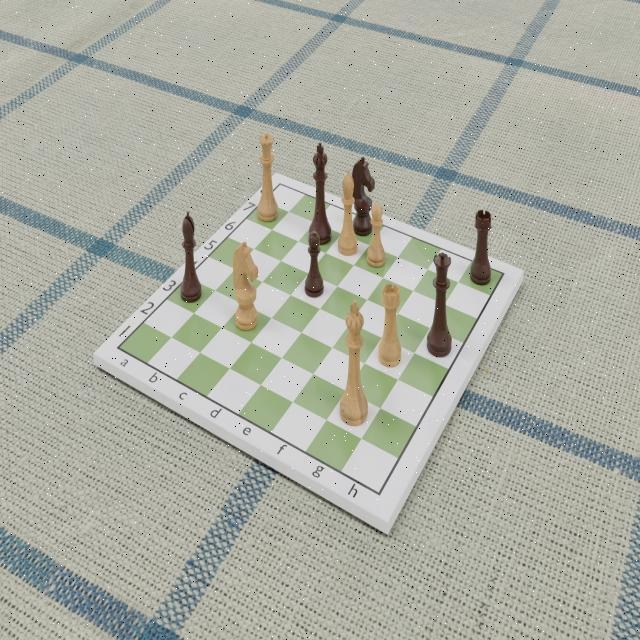black-bishop: (179, 208, 202, 303)
black-king: (308, 140, 332, 245)
black-knight: (350, 154, 375, 238)
black-pawn: (303, 230, 325, 298)
black-queen: (426, 250, 453, 357)
black-rook: (469, 207, 492, 286)
white-bishop: (337, 169, 359, 257)
white-king: (339, 298, 369, 427)
white-knight: (232, 240, 259, 332)
white-pawn: (365, 203, 386, 269)
white-queen: (256, 132, 279, 223)
white-rook: (378, 282, 402, 368)
